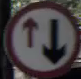Two way: (16, 8, 77, 64)
